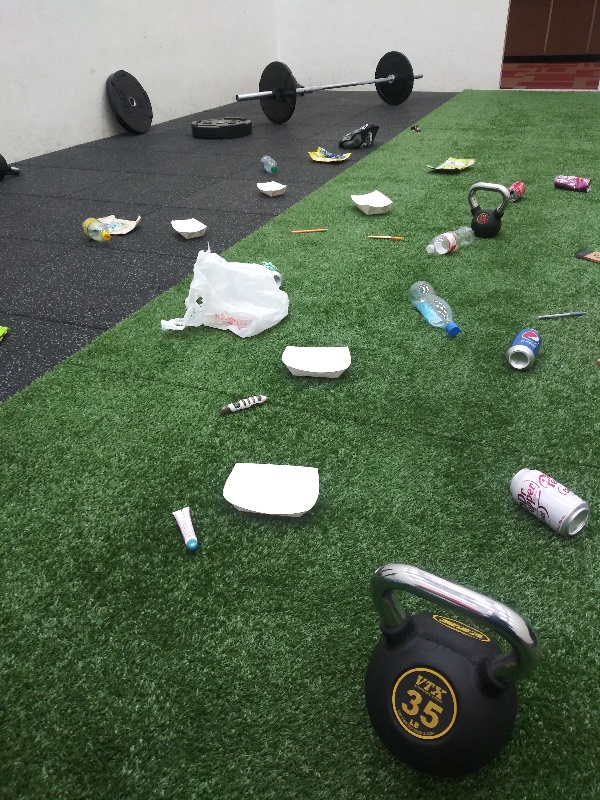bag: (420, 153, 480, 177), (96, 209, 147, 234), (303, 141, 351, 167), (1, 316, 11, 339)
bottle: (405, 277, 460, 340), (421, 222, 478, 259), (81, 216, 111, 244), (253, 151, 283, 178)
can: (505, 466, 590, 544), (502, 324, 548, 374), (548, 171, 592, 198), (259, 254, 286, 289), (505, 176, 528, 201)
plate: (214, 459, 324, 526), (277, 339, 356, 384), (343, 186, 397, 220), (166, 213, 210, 244), (251, 177, 291, 200)
